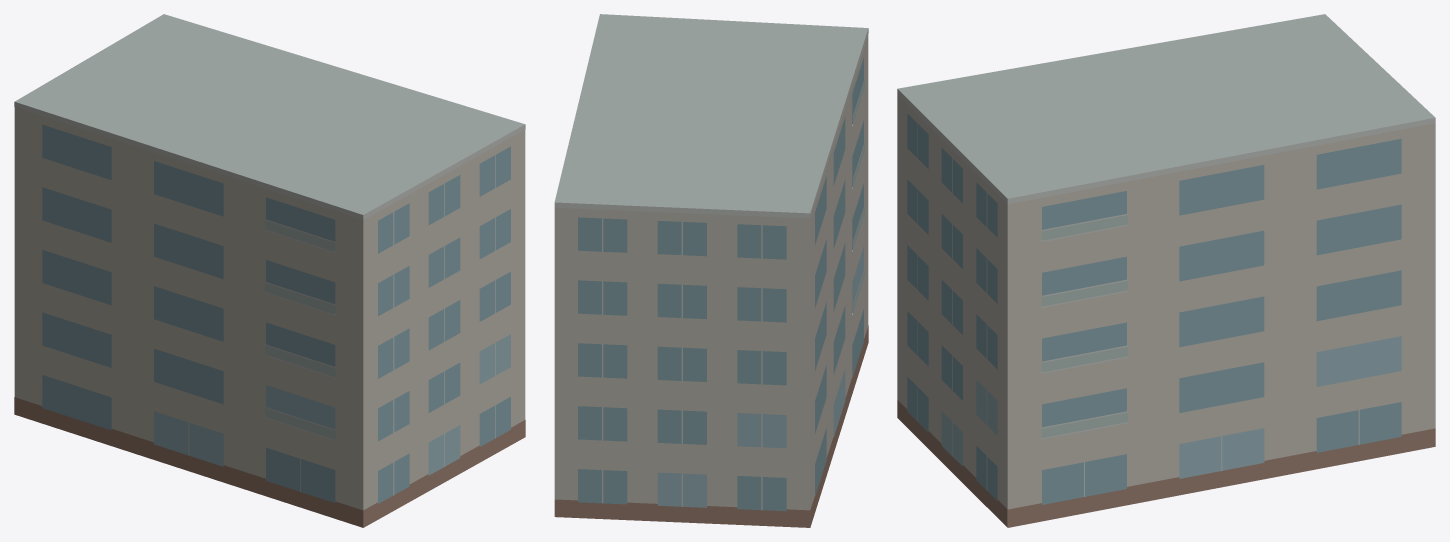
File: survey-upis-32936108.glb
The picture shows the model from 3 angles, left to right: view 1: azimuth 30°, elevation 25°; view 2: azimuth 150°, elevation 25°; view 3: azimuth 270°, elevation 25°; orthographic projection. The views are drawn at different scales.
Parts seen in each view (by area): view 1: survey-upis-32936108.tmp; view 2: survey-upis-32936108.tmp; view 3: survey-upis-32936108.tmp.
Boxes of the visible parts, <box> form: survey-upis-32936108.tmp: <box>14,14,525,527</box>; survey-upis-32936108.tmp: <box>554,14,868,527</box>; survey-upis-32936108.tmp: <box>897,14,1435,527</box>.
Size of the model in its own units: 17.65 by 14.65 by 21.73.
